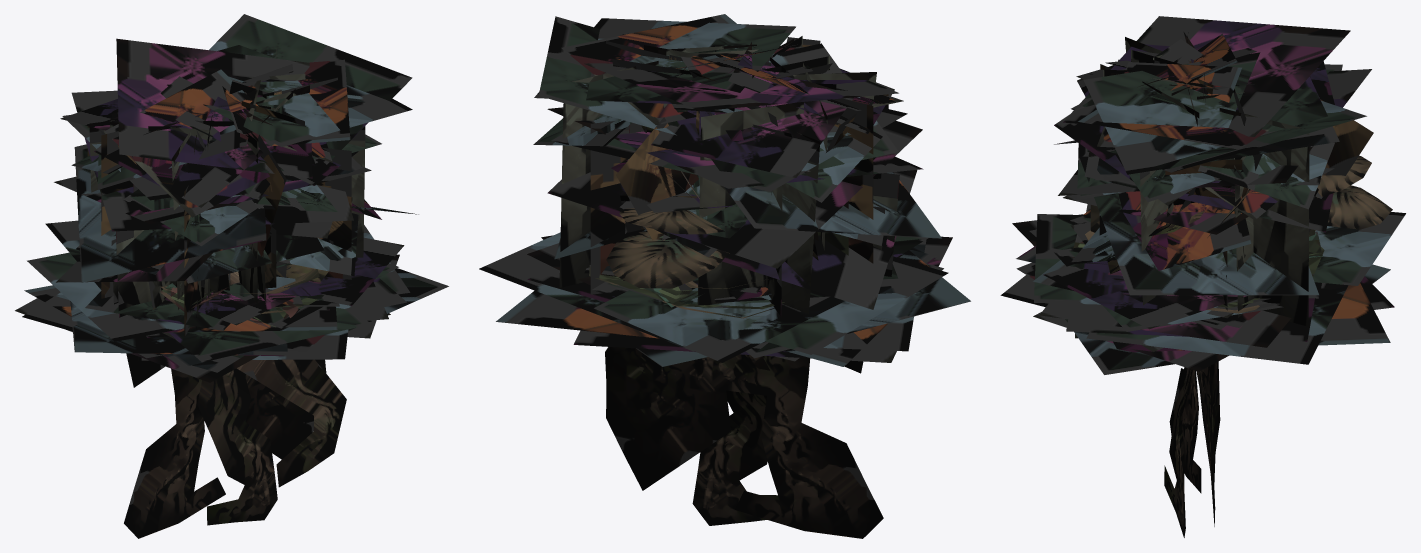
The model's file is Plants_01.fbx.
3 views of the same model, side by side, from view 1: azimuth 30°, elevation 25°; view 2: azimuth 150°, elevation 25°; view 3: azimuth 270°, elevation 25° (orthographic). The views are drawn at different scales.
Parts seen in each view (by area): view 1: Plant11C, Plant11B, Plant11A, Plant11F, Plant14C, Plant11E, Plant14B, Plant14A, Plant12A, Plant11G, Plant11D, Plant06A1 (+2 smaller); view 2: Plant11C, Plant11B, Plant14C, Plant11F, Plant11A, Plant12A, Plant14B, Plant03C, Plant11D, Plant11E, Plant11G, Plant03B (+2 smaller); view 3: Plant11B, Plant11A, Plant11C, Plant11F, Plant11E, Plant11D, Plant14C, Plant12A, Plant11G, Plant03C, Plant14B, Plant03B (+1 smaller).
Boxes of the visible parts, left/top/right/bottom form: Plant11C: left=54, top=38, right=371, bottom=309; Plant11B: left=62, top=14, right=412, bottom=328; Plant11A: left=74, top=59, right=418, bottom=317; Plant11F: left=22, top=220, right=410, bottom=372; Plant14C: left=124, top=126, right=326, bottom=538; Plant11E: left=15, top=237, right=406, bottom=382; Plant14B: left=197, top=368, right=277, bottom=525; Plant14A: left=229, top=81, right=346, bottom=487; Plant12A: left=87, top=77, right=351, bottom=337; Plant11G: left=70, top=268, right=448, bottom=367; Plant11D: left=24, top=285, right=339, bottom=358; Plant06A1: left=160, top=227, right=390, bottom=315; Plant11C: left=547, top=39, right=923, bottom=317; Plant11B: left=533, top=16, right=907, bottom=313; Plant14C: left=605, top=83, right=883, bottom=538; Plant11F: left=479, top=232, right=948, bottom=362; Plant11A: left=554, top=14, right=941, bottom=281; Plant12A: left=590, top=37, right=888, bottom=294; Plant14B: left=692, top=354, right=779, bottom=525; Plant03C: left=606, top=231, right=729, bottom=288; Plant11D: left=496, top=263, right=943, bottom=366; Plant11E: left=527, top=235, right=952, bottom=362; Plant11G: left=636, top=249, right=970, bottom=366; Plant03B: left=619, top=208, right=724, bottom=234; Plant11B: left=1069, top=52, right=1366, bottom=326; Plant11A: left=1054, top=33, right=1319, bottom=295; Plant11C: left=1054, top=16, right=1371, bottom=234; Plant11F: left=1000, top=212, right=1405, bottom=364; Plant11E: left=1012, top=214, right=1394, bottom=371; Plant11D: left=1016, top=204, right=1390, bottom=352; Plant14C: left=1169, top=32, right=1226, bottom=526; Plant12A: left=1100, top=64, right=1373, bottom=231; Plant11G: left=1016, top=210, right=1390, bottom=374; Plant03C: left=1327, top=185, right=1392, bottom=229; Plant14B: left=1164, top=367, right=1192, bottom=537; Plant03B: left=1317, top=155, right=1371, bottom=197.
Size of the model in its own units: 1.86 by 2.19 by 1.71.
